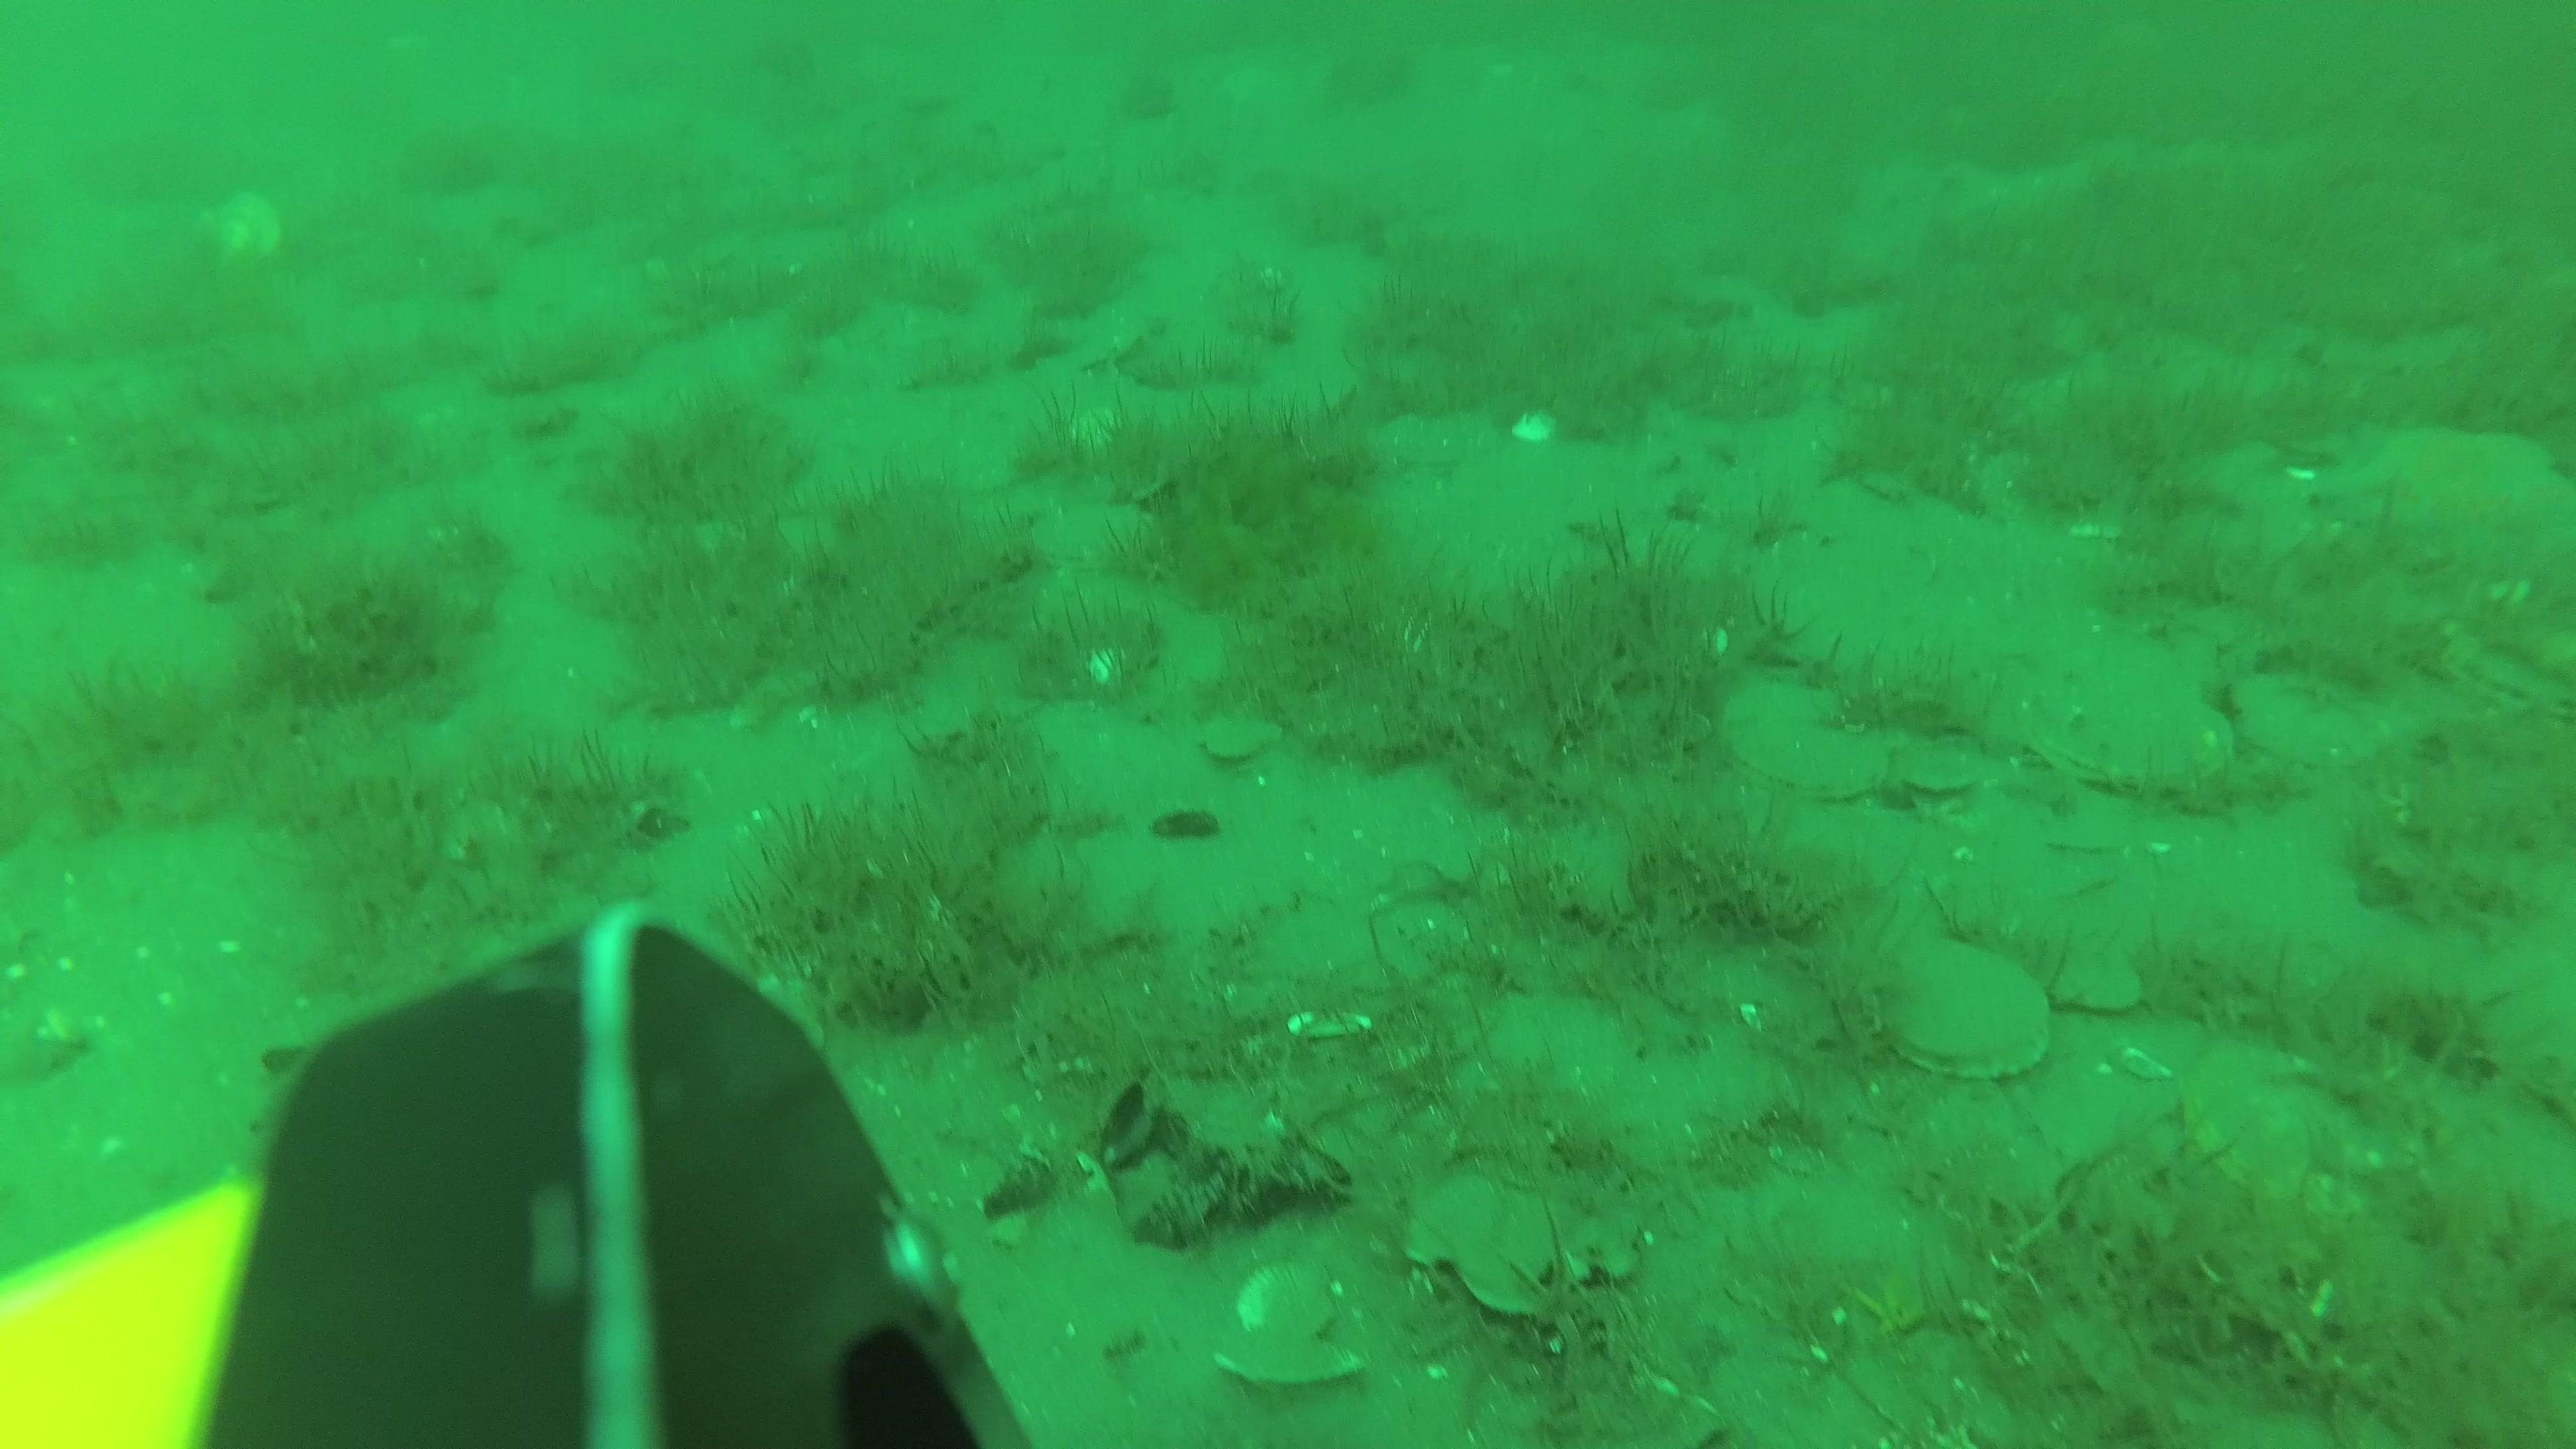scallop: (2189, 1035, 2367, 1198), (1877, 938, 2049, 1081), (2031, 669, 2231, 787), (1718, 685, 1888, 800), (1219, 1261, 1359, 1389), (2236, 676, 2396, 771), (2450, 632, 2576, 715), (1042, 499, 1155, 573), (1376, 409, 1484, 478), (195, 193, 283, 267), (2059, 952, 2141, 1010), (1198, 708, 1279, 766), (1907, 752, 1974, 798)
starfish: (2316, 421, 2576, 561)
